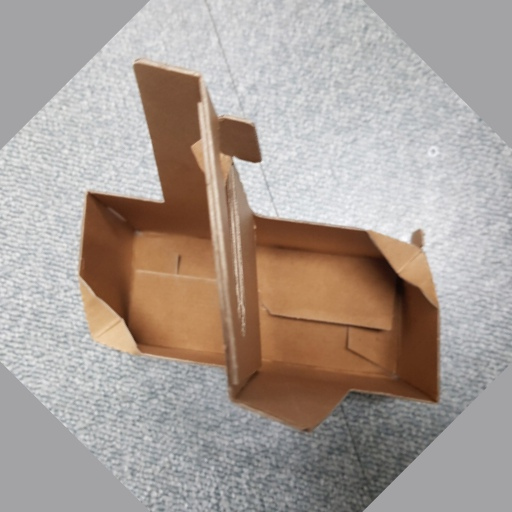Paper_0: (70, 50, 459, 437)
